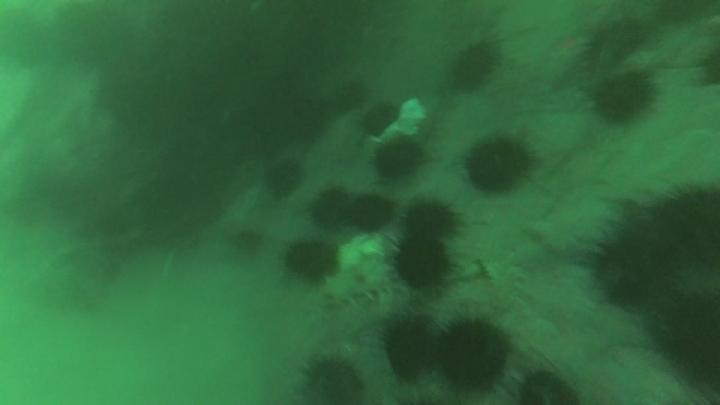echinus: (591, 229, 675, 311), (662, 293, 720, 380), (661, 187, 720, 266), (442, 322, 510, 390), (582, 20, 653, 76), (467, 136, 535, 193), (591, 73, 655, 126), (385, 320, 437, 384), (395, 242, 449, 291), (303, 362, 361, 405), (518, 371, 582, 405), (454, 43, 496, 94), (285, 243, 336, 281), (407, 203, 459, 240), (377, 138, 425, 178), (352, 197, 394, 229), (266, 160, 302, 197), (313, 190, 349, 227), (365, 102, 399, 139)
holothurian: (329, 264, 395, 301), (483, 258, 527, 309)
